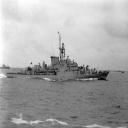Fragata: (5, 31, 112, 82)
